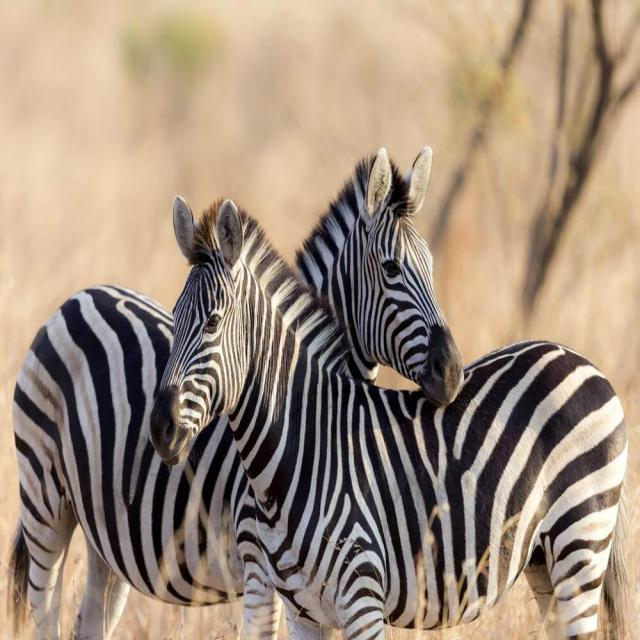zebra: (151, 197, 627, 639), (296, 147, 461, 404)
